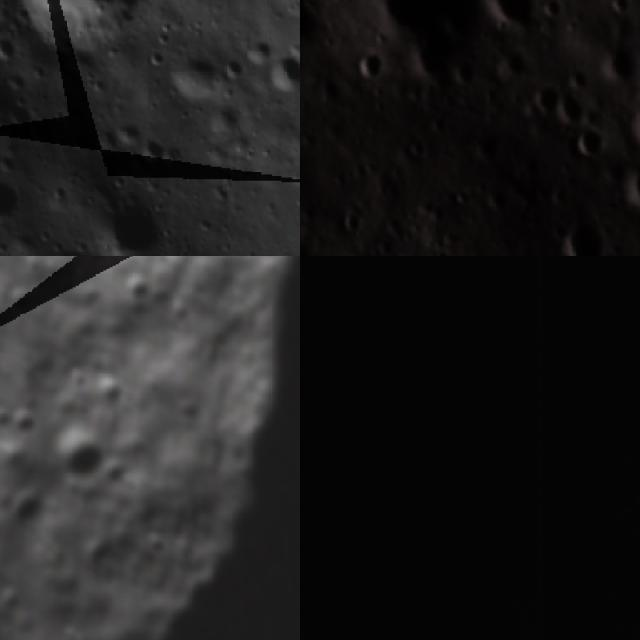crater: (300, 256, 640, 640), (0, 0, 175, 66), (352, 0, 491, 82), (33, 412, 115, 490), (87, 186, 176, 256), (158, 46, 231, 111), (0, 484, 56, 539), (0, 162, 35, 241), (551, 213, 612, 256), (255, 49, 300, 104), (103, 109, 149, 158), (1, 92, 44, 137), (482, 0, 539, 31), (135, 134, 175, 178), (66, 278, 106, 321), (214, 48, 252, 88), (55, 360, 93, 399), (92, 370, 130, 408), (136, 521, 174, 558), (600, 44, 636, 83), (348, 46, 385, 82), (615, 161, 640, 212), (568, 126, 604, 160), (527, 83, 561, 118), (446, 58, 481, 89), (9, 256, 47, 284), (193, 337, 226, 368), (468, 130, 497, 164), (502, 48, 530, 83), (8, 408, 37, 437), (49, 618, 87, 640), (0, 25, 20, 65), (484, 186, 509, 218), (300, 0, 316, 45), (557, 96, 582, 123), (563, 68, 590, 93), (0, 399, 18, 436), (538, 0, 566, 22), (601, 0, 635, 18), (625, 98, 640, 138), (69, 262, 93, 286), (54, 272, 79, 295), (338, 210, 360, 236), (41, 259, 64, 282), (145, 256, 171, 266)
